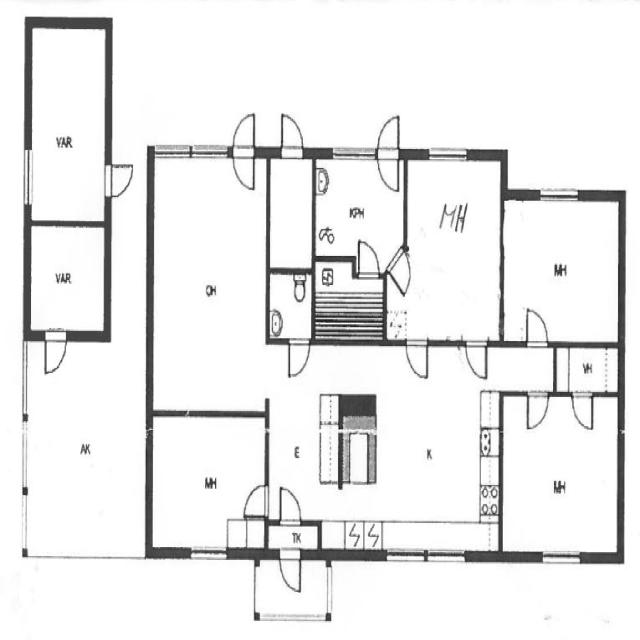door: (230, 109, 260, 197), (375, 111, 404, 199), (101, 157, 136, 201), (277, 108, 307, 157), (41, 328, 69, 380), (353, 236, 383, 282), (522, 302, 551, 349), (462, 334, 490, 382), (284, 334, 312, 382), (241, 481, 272, 522), (277, 547, 304, 594), (404, 336, 431, 382), (277, 485, 305, 527), (525, 388, 550, 432), (390, 246, 412, 293), (571, 389, 594, 433)
window: (14, 343, 33, 508), (379, 544, 472, 572), (150, 137, 234, 165), (536, 546, 588, 572), (184, 540, 234, 566), (19, 142, 37, 214), (534, 182, 584, 206), (324, 143, 378, 165), (424, 141, 472, 164), (18, 415, 32, 492)
zone: (348, 350, 503, 558), (150, 151, 268, 415), (501, 392, 620, 559), (407, 149, 501, 343), (503, 196, 621, 345), (148, 413, 266, 553), (29, 22, 107, 225), (313, 153, 407, 265), (27, 222, 109, 334), (313, 266, 388, 345), (268, 151, 314, 268), (266, 268, 314, 340), (555, 344, 621, 394)
